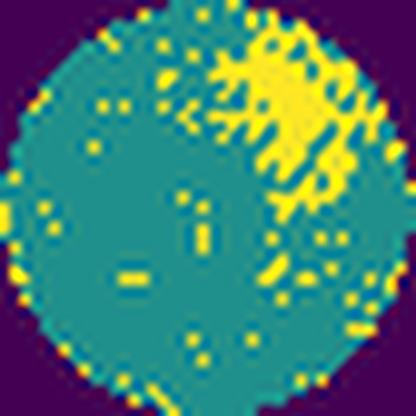Loc: (209, 11, 388, 223)
